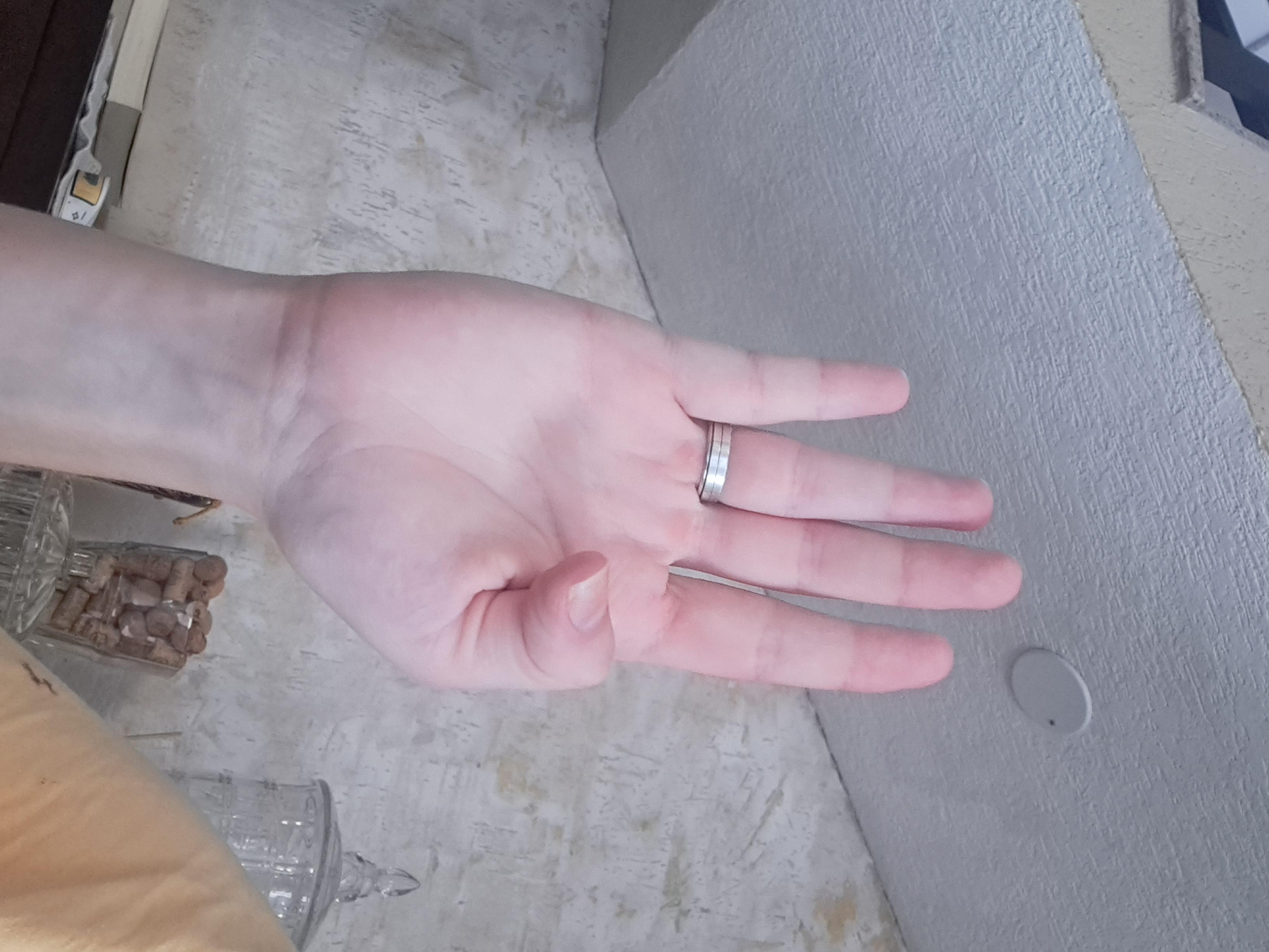B: (358, 172, 959, 747)
